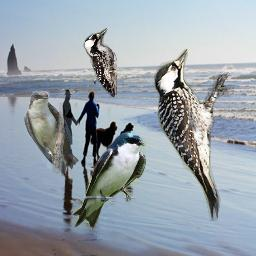Swallow: (71, 131, 146, 229), (24, 91, 79, 174)
Woodpecker: (154, 49, 234, 221), (83, 28, 117, 97)
